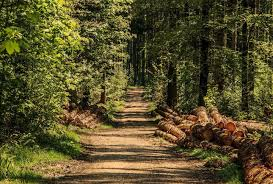forest: (3, 3, 270, 184)
